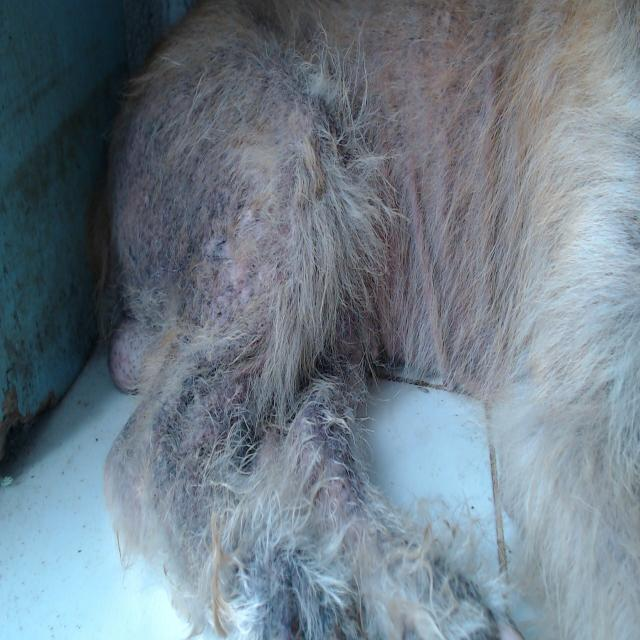demodicosis: (152, 367, 333, 536), (121, 132, 267, 293)
